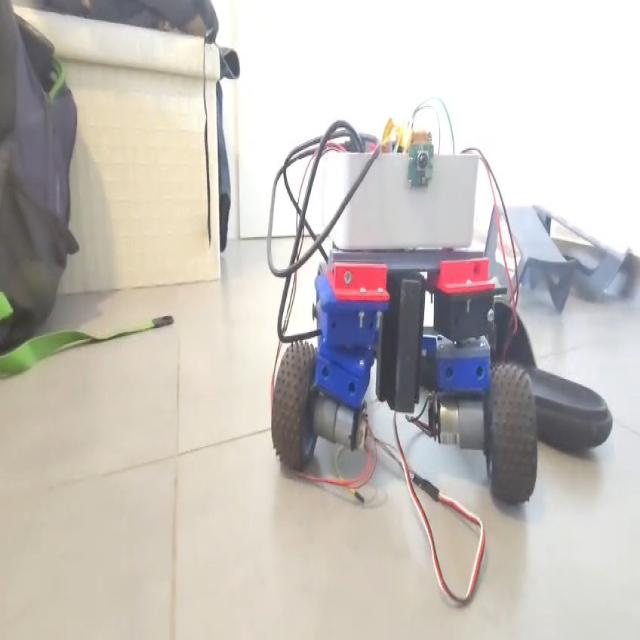Robot: (268, 91, 538, 507)
